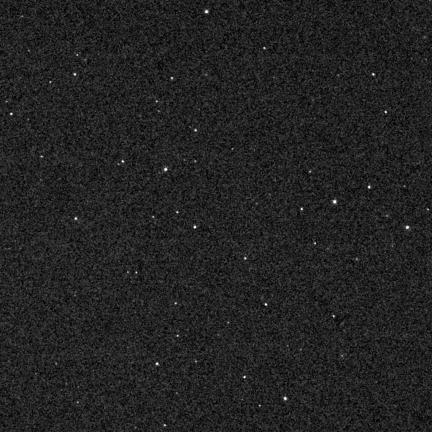blob: (372, 73, 376, 77), (156, 362, 160, 366), (73, 73, 77, 77), (333, 200, 337, 204), (194, 226, 197, 230), (10, 113, 14, 116), (244, 257, 247, 261), (122, 160, 125, 164), (195, 129, 198, 133), (368, 185, 371, 189), (171, 77, 174, 81), (333, 315, 336, 319), (300, 208, 304, 211), (385, 111, 388, 114), (175, 303, 178, 306), (41, 156, 44, 159), (75, 218, 78, 221), (176, 211, 179, 214), (406, 226, 409, 229), (177, 335, 180, 338), (243, 376, 246, 379), (205, 10, 208, 13), (135, 272, 138, 275), (309, 171, 312, 174), (156, 100, 159, 103), (284, 397, 287, 400), (264, 47, 267, 50), (165, 168, 167, 171), (265, 303, 267, 306)
